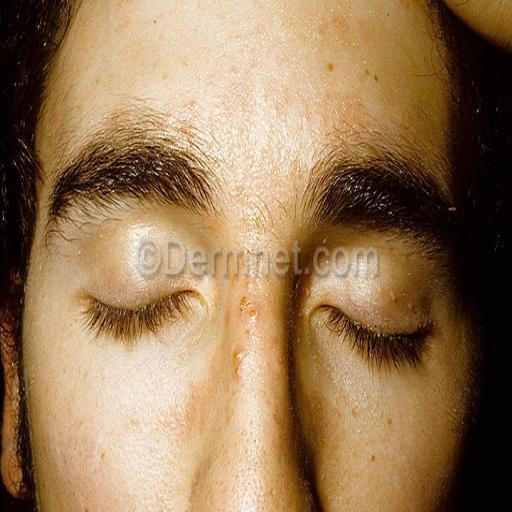Skin_Lesion: (232, 270, 260, 324), (230, 340, 247, 370), (323, 56, 337, 77)
